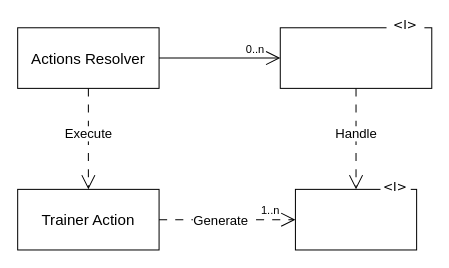
Some shapes in this 449 by 268 pixel diagram are drawn without their labels. Each missing label, with the centre of its shape:
"IBattleEvent" goes at point (355, 219).
"IBattleEventHandler" goes at point (355, 57).
